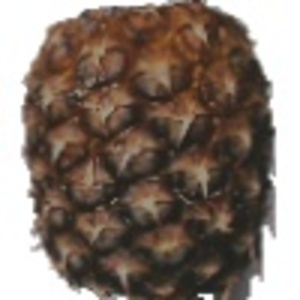abacaxi: (18, 2, 282, 300)
